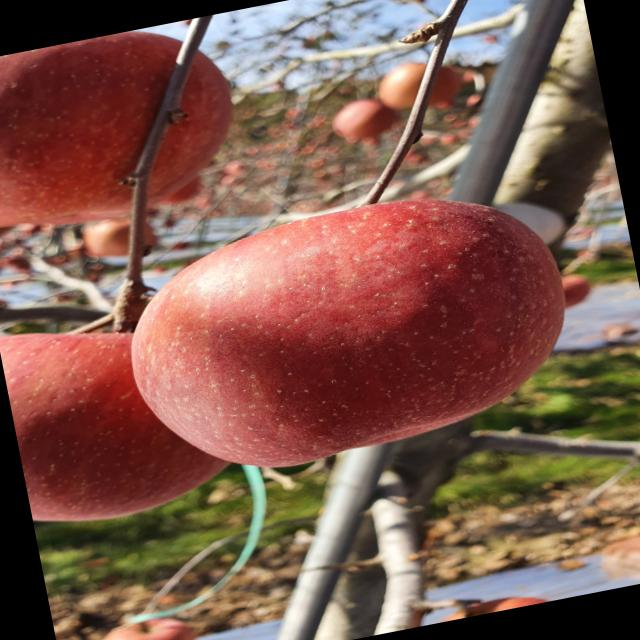fresh: (94, 159, 602, 500)
